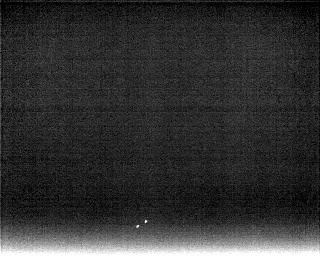BIRD: (134, 222, 141, 231)
